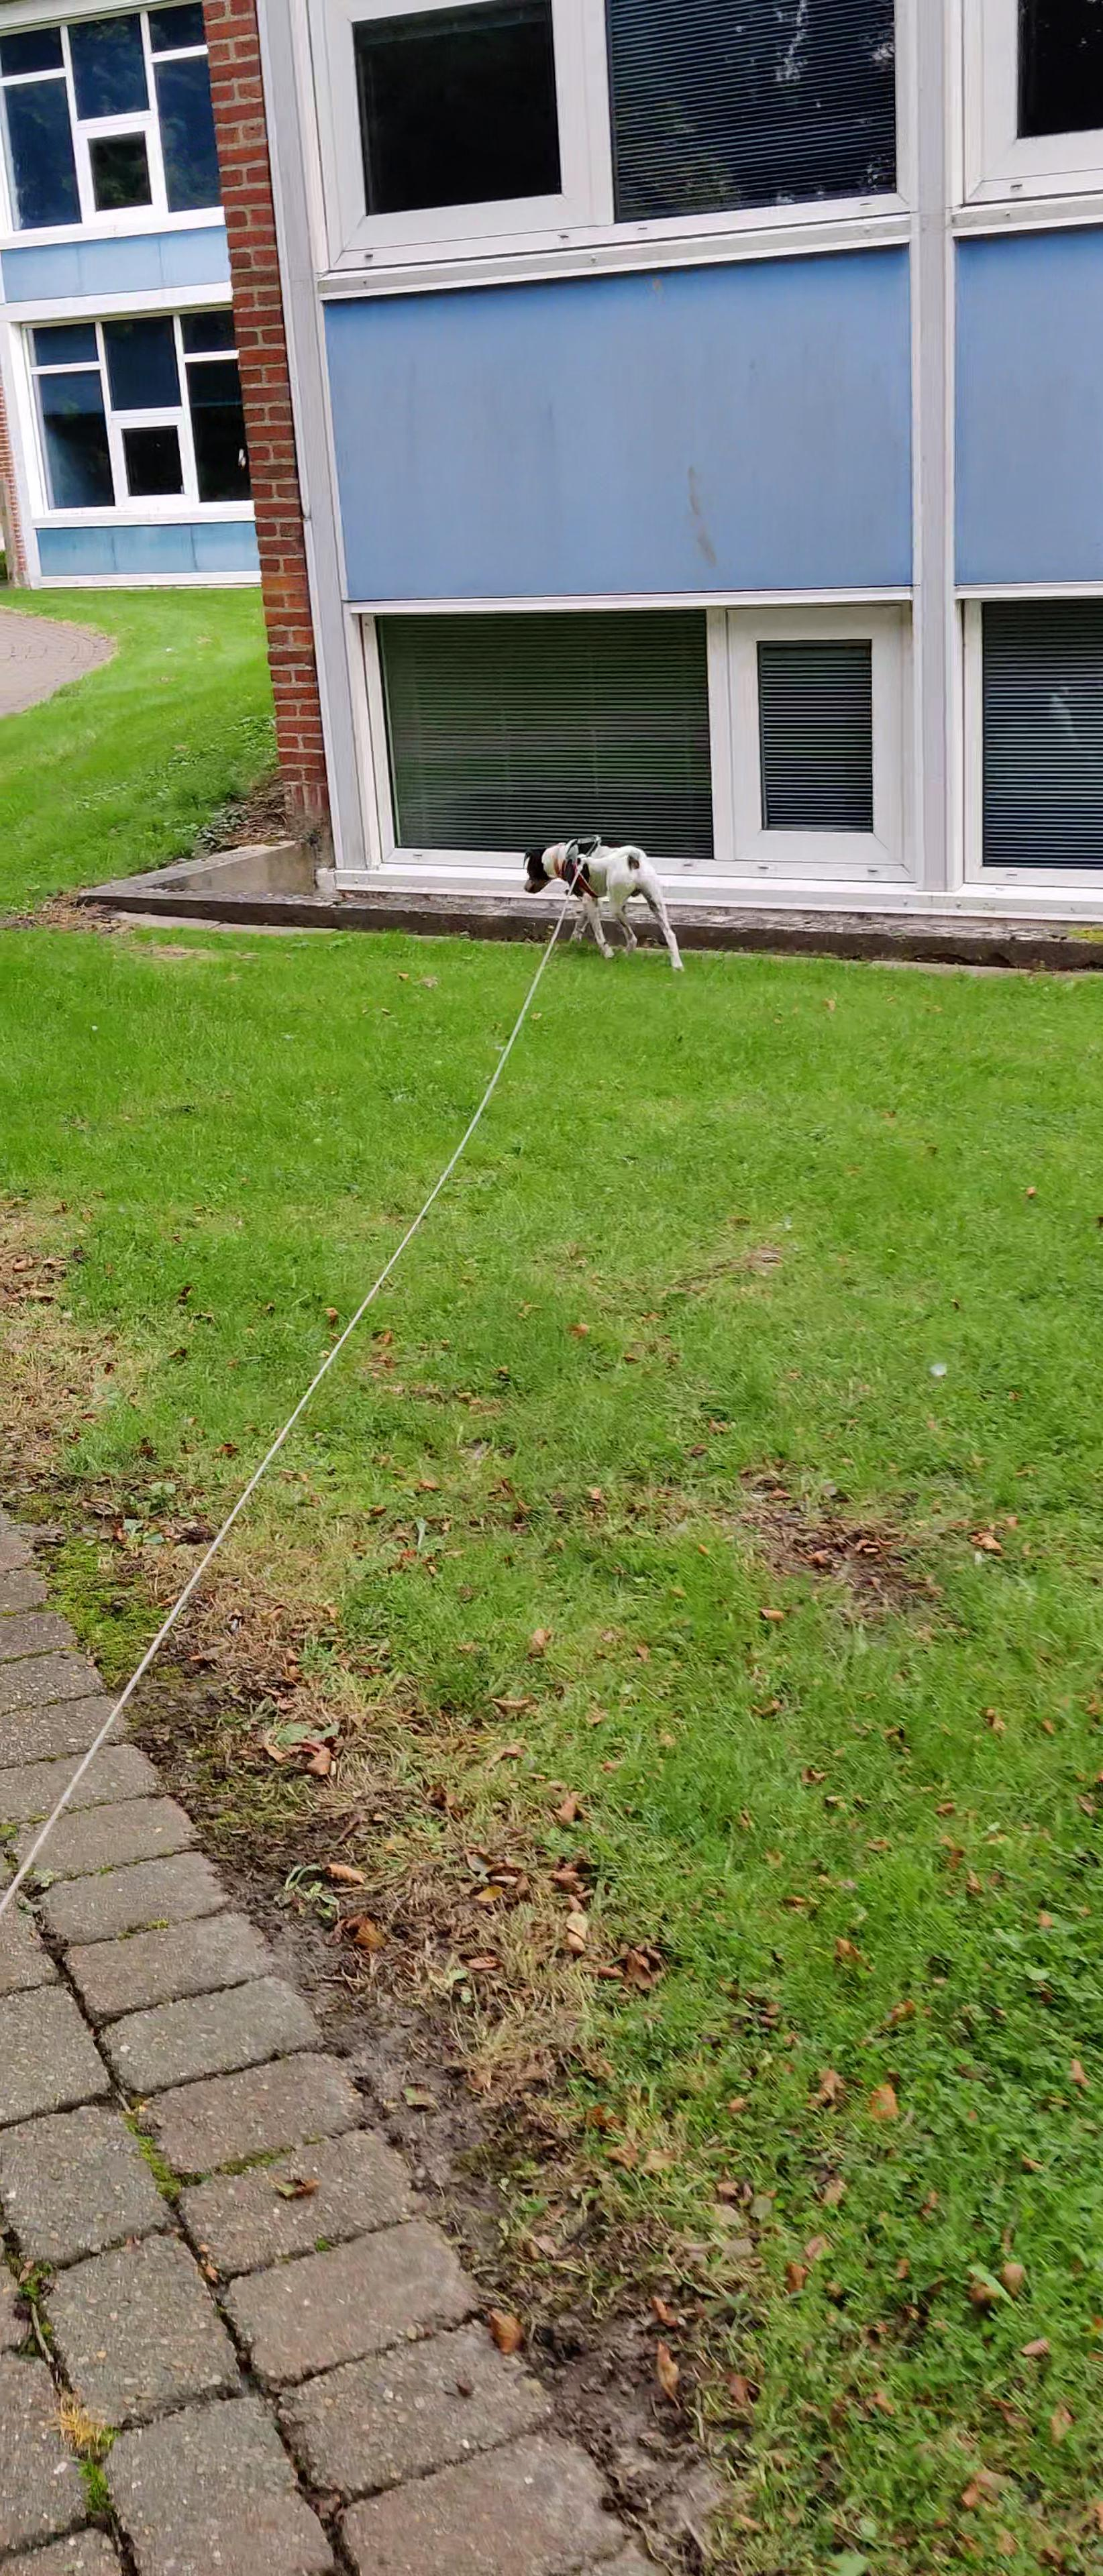Dog: (508, 821, 697, 976)
